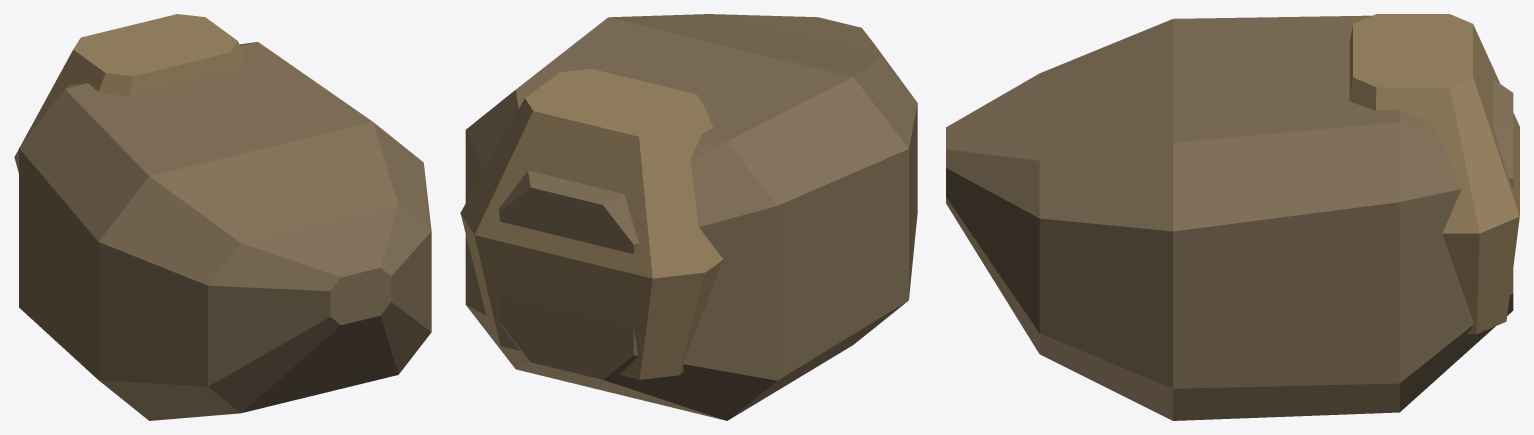
The model's file is female_body.glb.
3 renders of one model, left to right at view 1: azimuth 30°, elevation 25°; view 2: azimuth 150°, elevation 25°; view 3: azimuth 270°, elevation 25°, orthographic. The views are drawn at different scales.
Parts seen in each view (by area): view 1: female_body; view 2: female_body; view 3: female_body.
Part boxes in pixels (x1,y1,x2,y2): female_body: (14, 14, 431, 420); female_body: (460, 14, 917, 420); female_body: (946, 14, 1519, 420).
Bounding box in the file's own units: 0.64 × 0.51 × 0.86.
